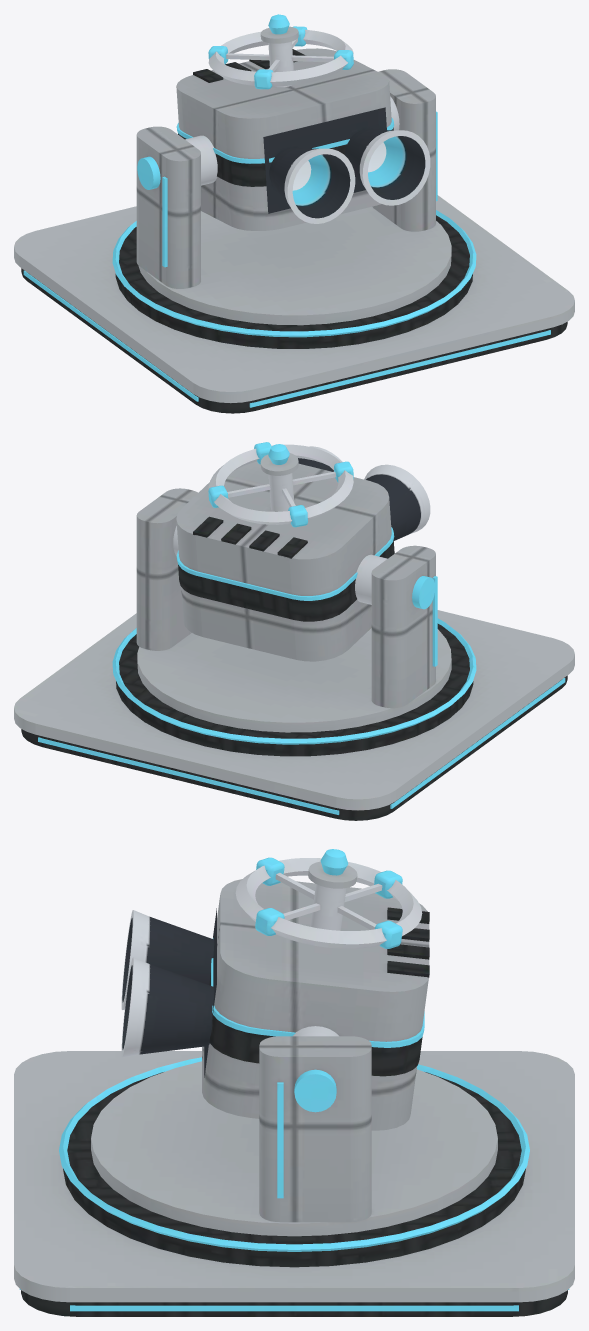
The model's file is enterprise_sublight_thruster.glb.
3 views of the same model, one above another, from view 1: azimuth 30°, elevation 25°; view 2: azimuth 150°, elevation 25°; view 3: azimuth 270°, elevation 25° (orthographic). The views are drawn at different scales.
Visible parts, largest first — view 1: te_enterprise_sublight_thruster, move_rotor; view 2: te_enterprise_sublight_thruster, move_rotor; view 3: te_enterprise_sublight_thruster, move_rotor.
Part boxes in pixels (box(x1,y1,x2,y2)): te_enterprise_sublight_thruster: box(14, 14, 574, 413); move_rotor: box(208, 26, 353, 89); te_enterprise_sublight_thruster: box(14, 444, 574, 820); move_rotor: box(208, 442, 353, 527); te_enterprise_sublight_thruster: box(14, 849, 574, 1316); move_rotor: box(235, 857, 422, 948).
Bounding box in the file's own units: 0.8 × 0.5532 × 0.8.
1 material, 1 textured.
